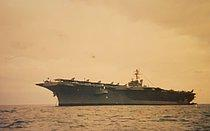MIL_Ship: (35, 69, 198, 106)
